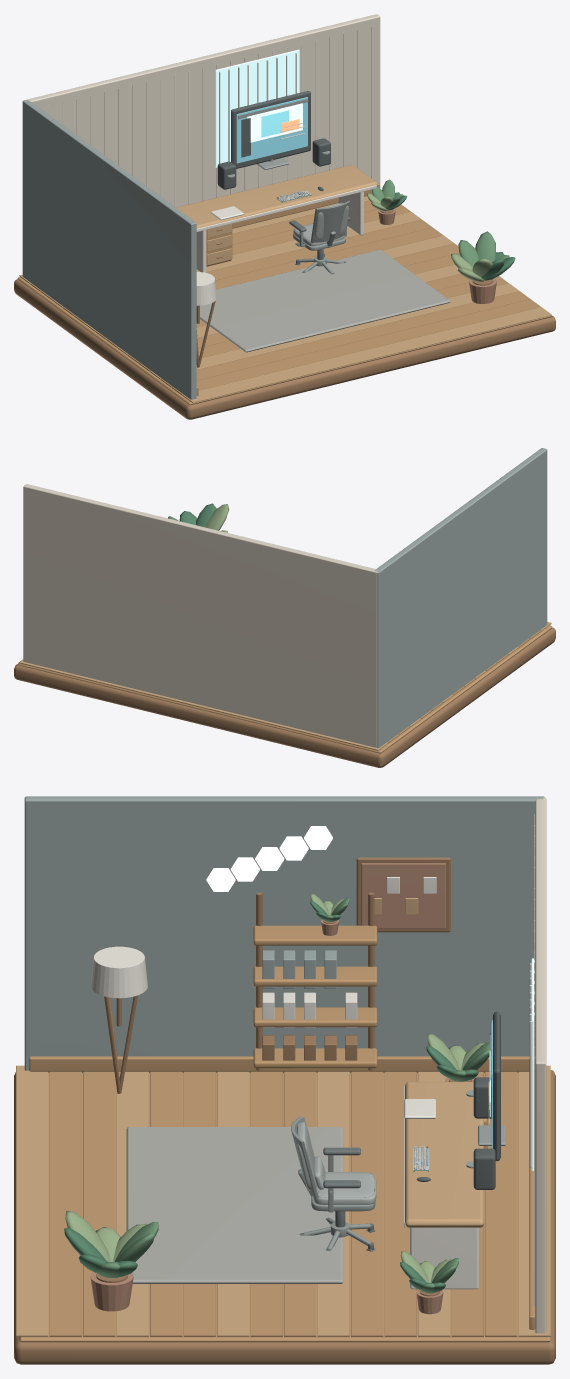
The model's file is reference-room.glb.
3 views of the same model, one above another, from view 1: azimuth 30°, elevation 25°; view 2: azimuth 150°, elevation 25°; view 3: azimuth 270°, elevation 25° (orthographic). The views are drawn at different scales.
Parts seen in each view (by area): view 1: Left sage wall, Rear ivory wall, Large soft gray rug, Diorama shadow base, Desk top, Floor plank 00, Blue daylight window, Floor plank 01, Floor plank 02, Ergonomic office chair, Floor plank 11, Floor plank 03 (+21 smaller); view 2: Rear ivory wall, Left sage wall, Diorama shadow base, Oak floor top, Floor plank 15; view 3: Left sage wall, Large soft gray rug, Diorama shadow base, Desk top, Floor plank 00, Floor plank 01, Floor plank 10, Floor plank 14, Oak floor top, Floor plank 02, Rear ivory wall, Floor plank 11 (+28 smaller).
Boxes of the visible parts, x1,y1,x2,y2 form: Left sage wall: (22,99,196,399); Rear ivory wall: (24,14,380,207); Large soft gray rug: (200,249,450,352); Diorama shadow base: (14,279,555,419); Desk top: (176,165,377,228); Floor plank 00: (182,307,551,403); Blue daylight window: (215,49,299,167); Floor plank 01: (171,299,540,394); Floor plank 02: (160,291,529,387); Ergonomic office chair: (289,200,350,274); Floor plank 11: (63,219,431,315); Floor plank 03: (150,283,518,379); Rear ivory wall: (23,484,377,747); Left sage wall: (375,448,547,747); Diorama shadow base: (14,627,555,767); Oak floor top: (17,625,552,753); Floor plank 15: (19,660,388,750); Left sage wall: (24,796,544,1072); Large soft gray rug: (126,1127,343,1283); Diorama shadow base: (14,1070,555,1364); Desk top: (405,1082,483,1227); Floor plank 00: (16,1065,48,1336); Floor plank 01: (49,1071,81,1336); Floor plank 10: (351,1071,383,1336); Floor plank 14: (485,1071,517,1336); Oak floor top: (19,1072,550,1342); Floor plank 02: (83,1071,115,1336); Rear ivory wall: (535,797,546,1333); Floor plank 11: (384,1071,416,1336).
Bounding box in the file's own units: 5.4 × 2.71 × 4.45.
33 materials, 7 textured.
